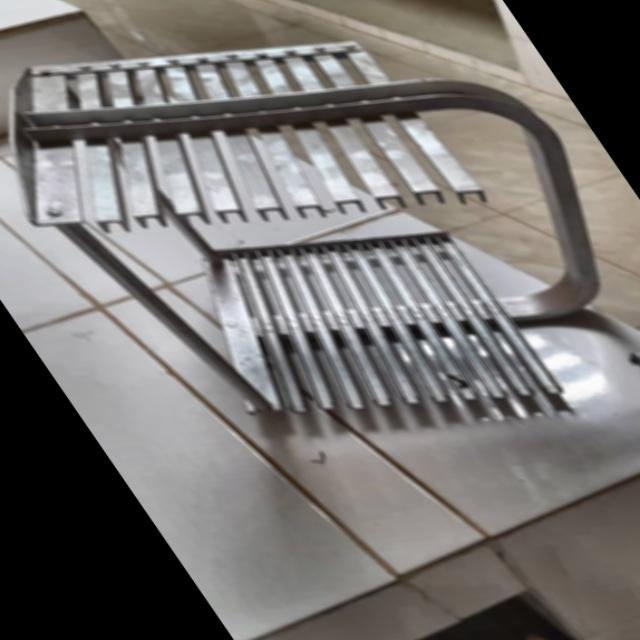Plate Rack: (0, 8, 640, 454)
